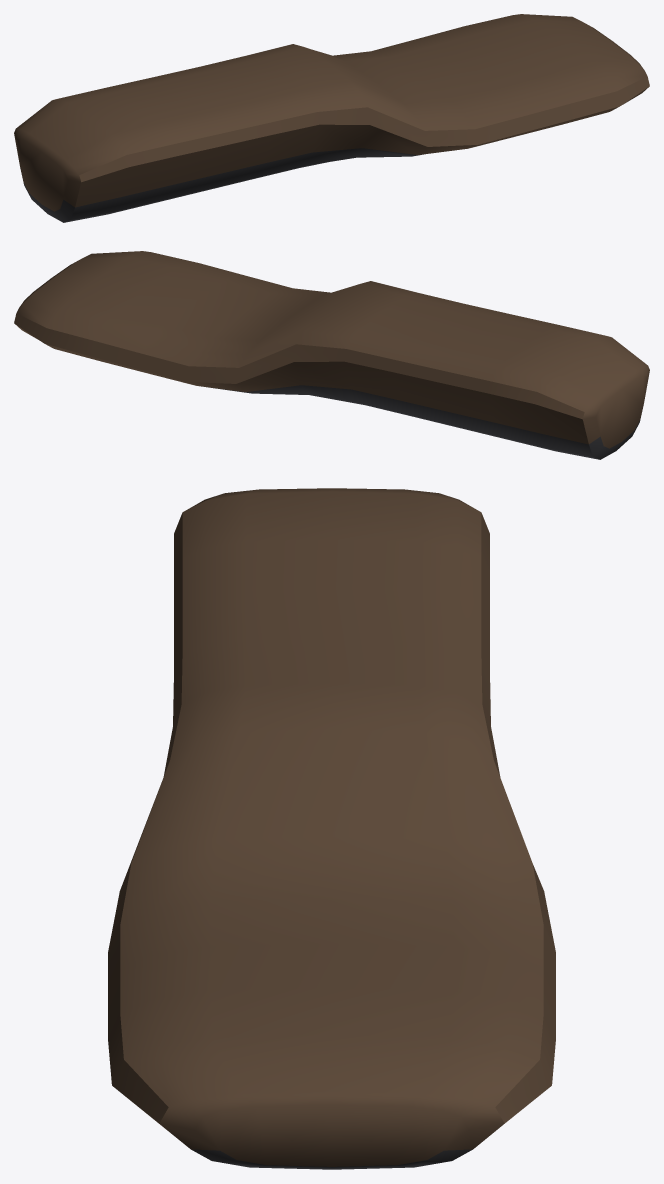
Rendered from stepped_lod1.glb.
3 views of the same model, one above another, from view 1: azimuth 30°, elevation 25°; view 2: azimuth 150°, elevation 25°; view 3: azimuth 270°, elevation 25° (orthographic). The views are drawn at different scales.
Visible parts, largest first — view 1: stepped_lod1; view 2: stepped_lod1; view 3: stepped_lod1.
Boxes of the visible parts, <box> form: stepped_lod1: <box>14,14,649,222</box>; stepped_lod1: <box>14,251,649,459</box>; stepped_lod1: <box>108,488,555,1169</box>.
Size of the model in its own units: 1 by 0.1449 by 0.3399.
